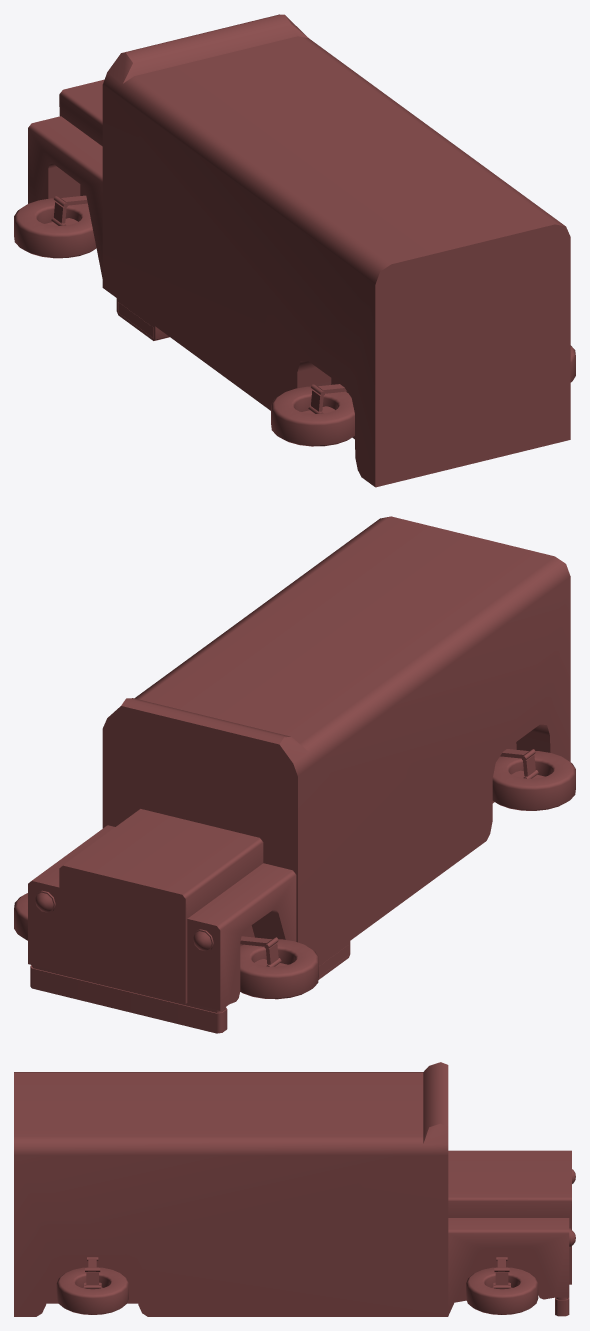
File: bus idle.fbx
3 renders of one model, top to bottom at view 1: azimuth 30°, elevation 25°; view 2: azimuth 150°, elevation 25°; view 3: azimuth 270°, elevation 25°, orthographic. The views are drawn at different scales.
Parts seen in each view (by area): view 1: bus_base, polySurface243, polySurface238; view 2: bus_base, polySurface243, polySurface238; view 3: bus_base, polySurface233, polySurface248.
Part boxes in pixels (x1,y1,x2,y2): bus_base: [28, 14, 570, 487]; polySurface243: [271, 386, 354, 446]; polySurface238: [14, 198, 96, 258]; bus_base: [28, 516, 570, 1033]; polySurface243: [492, 751, 575, 810]; polySurface238: [240, 939, 318, 999]; bus_base: [14, 1062, 575, 1316]; polySurface233: [466, 1267, 538, 1314]; polySurface248: [56, 1267, 128, 1314].
Bounding box in the file's own units: 487 × 397 × 1016.
